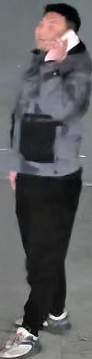phone: (30, 1, 91, 128)
